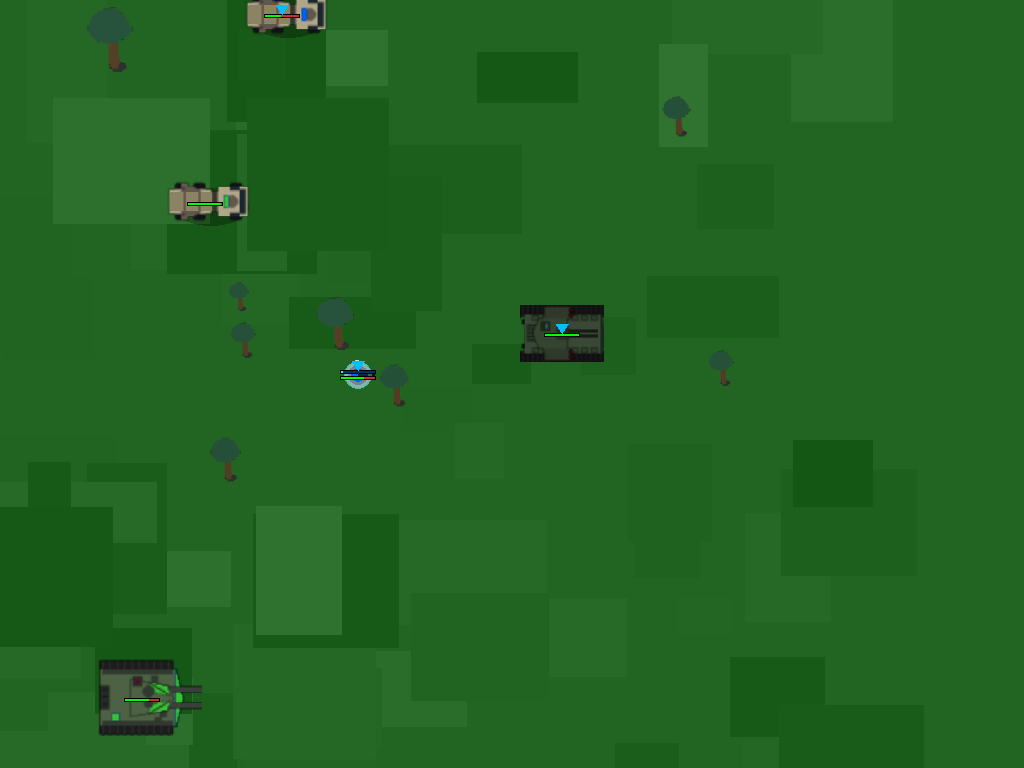HIMARS: (168, 165, 240, 237), (246, 0, 318, 72)
Shotgunner: (338, 354, 378, 394)
TerminatorIFV: (529, 300, 593, 364)
Type99: (102, 657, 181, 736)
